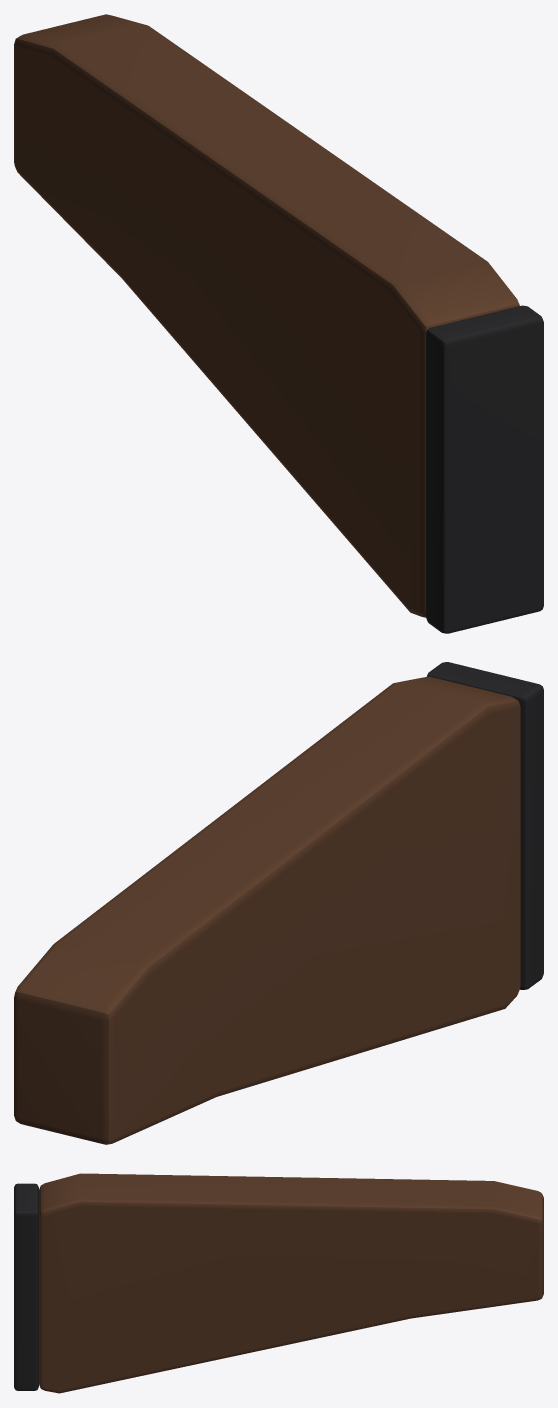
The model's file is mod_ferret_wood_stock.glb.
The picture shows the model from 3 angles, top to bottom: view 1: azimuth 30°, elevation 25°; view 2: azimuth 150°, elevation 25°; view 3: azimuth 270°, elevation 25°; orthographic projection. The views are drawn at different scales.
Visible parts, largest first — view 1: WoodStock, WoodStockPad; view 2: WoodStock, WoodStockPad; view 3: WoodStock, WoodStockPad.
Boxes of the visible parts, x1,y1,x2,y2 form: WoodStock: (14,14,519,617); WoodStockPad: (426,305,543,633); WoodStock: (14,676,520,1144); WoodStockPad: (427,662,543,989); WoodStock: (39,1173,543,1393); WoodStockPad: (14,1183,38,1390).
Bounding box in the file's own units: 0.035 × 0.104 × 0.256.
